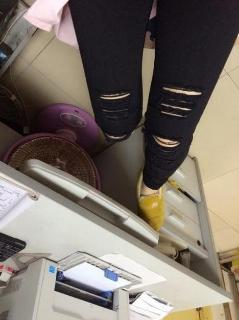trousers: (67, 0, 239, 190)
